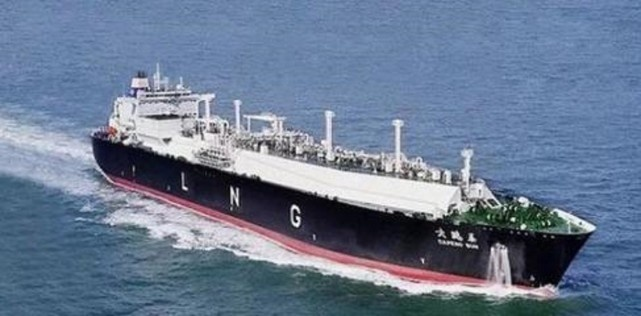Cargoship: (91, 58, 598, 296)
